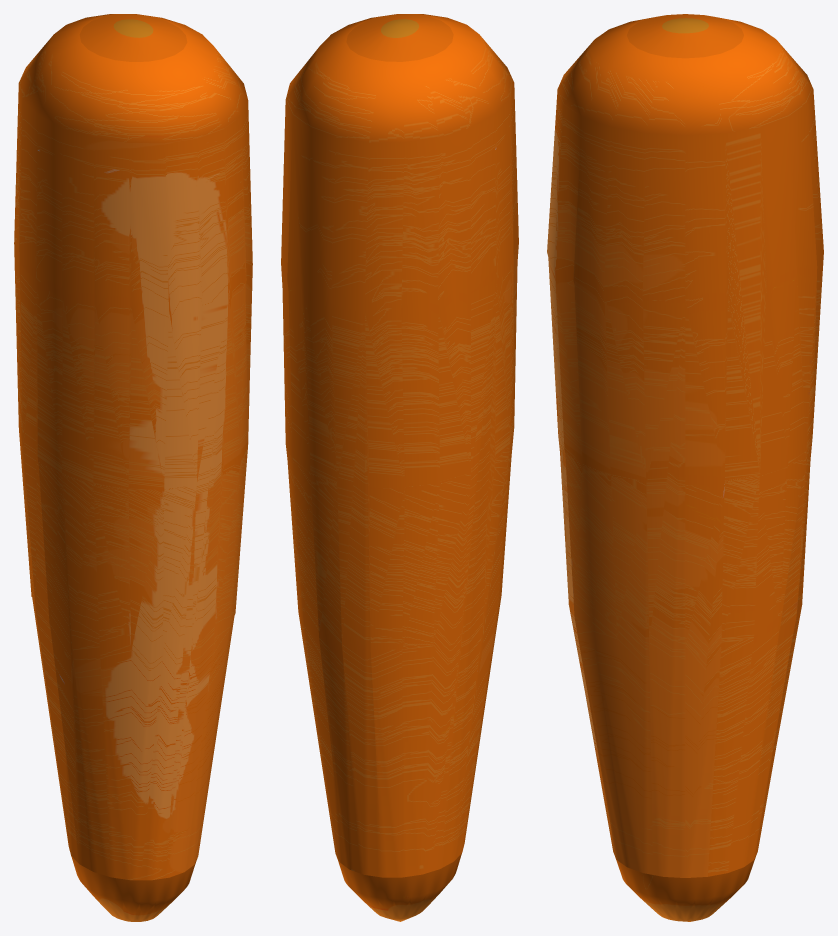
Rendered from carotto.fbx.
3 renders of one model, left to right at view 1: azimuth 30°, elevation 25°; view 2: azimuth 150°, elevation 25°; view 3: azimuth 270°, elevation 25°, orthographic.
Parts seen in each view (by area): view 1: pCylinder1; view 2: pCylinder1; view 3: pCylinder1.
Part boxes in pixels (x1,y1,x2,y2): pCylinder1: (14, 14, 252, 921); pCylinder1: (281, 14, 518, 921); pCylinder1: (547, 14, 823, 921).
Bounding box in the file's own units: 7.56 × 33.28 × 9.28.
